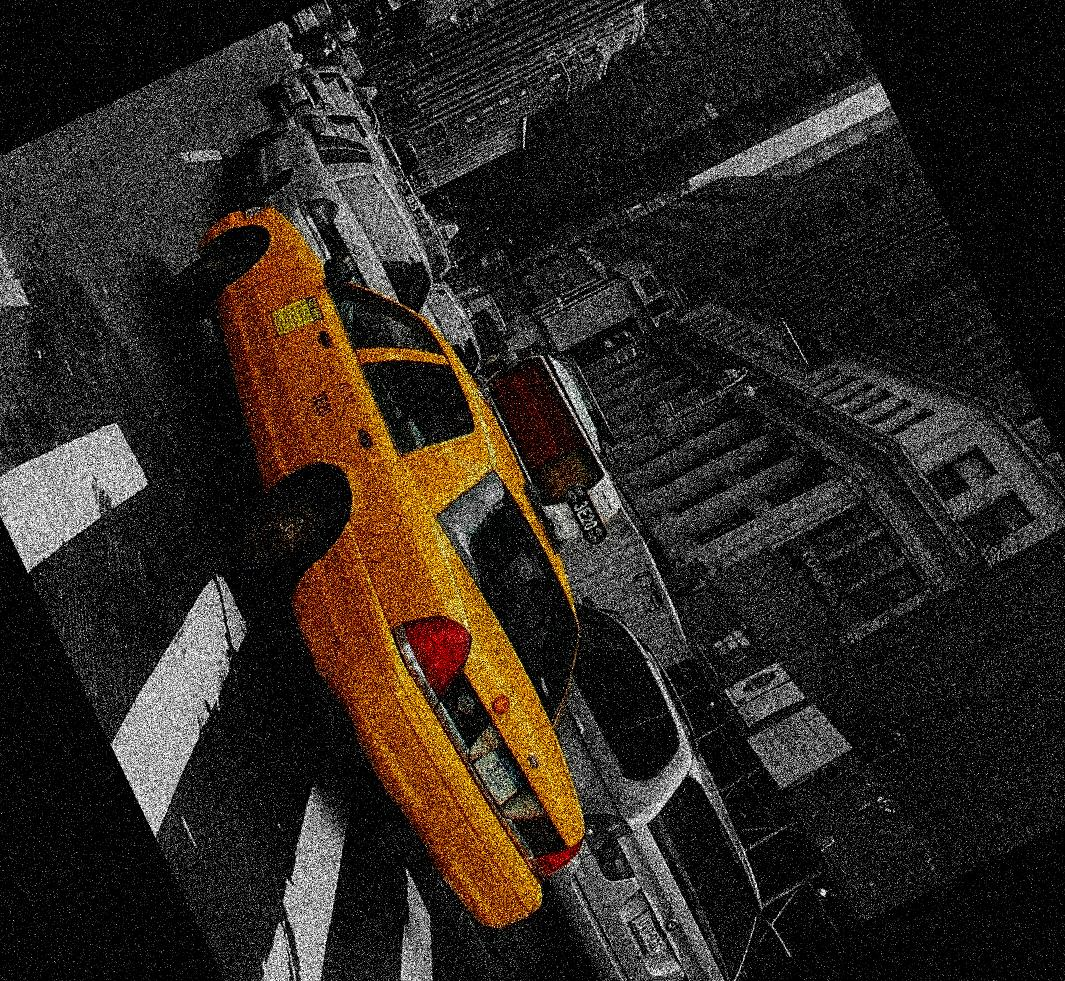taxi: (198, 180, 609, 940)
